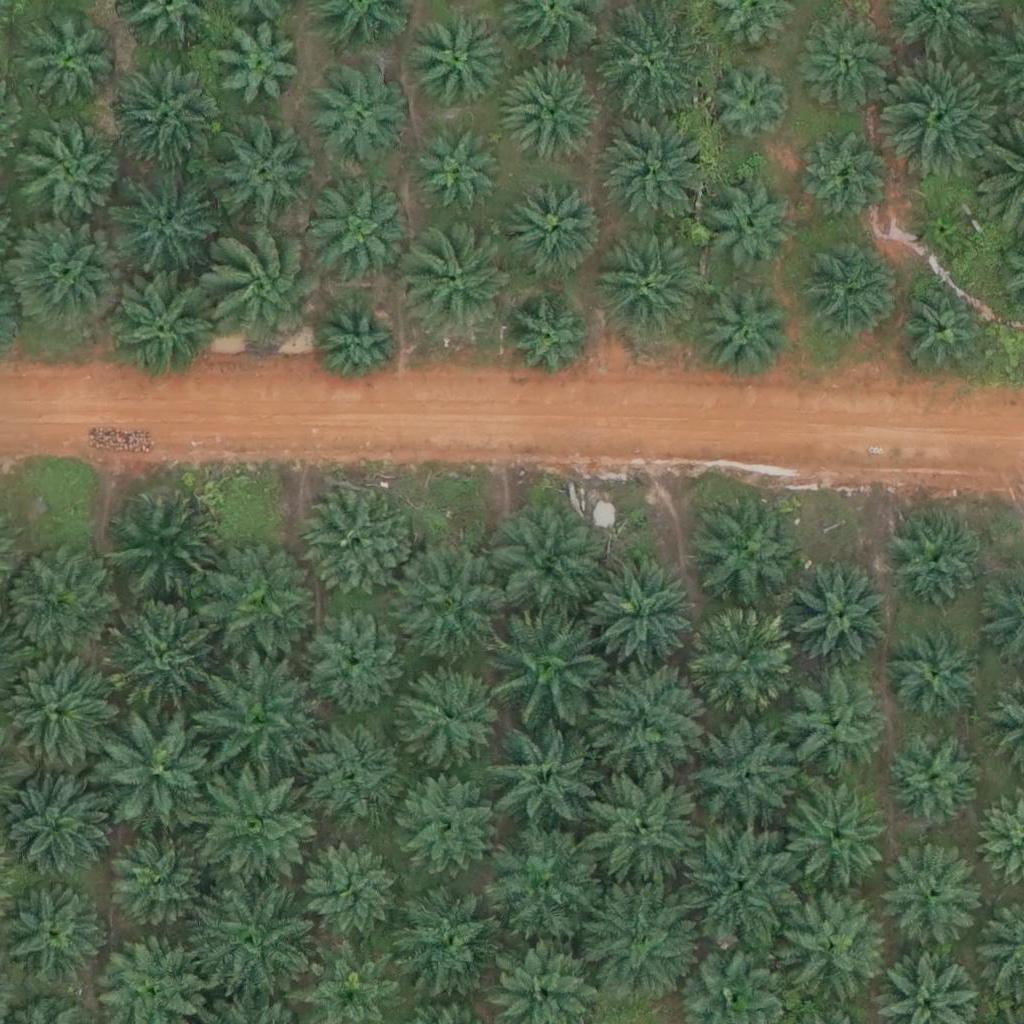Kelapa_Sawit: (204, 228, 329, 354), (690, 493, 803, 607), (588, 557, 701, 671), (588, 766, 701, 880), (487, 826, 600, 940), (204, 767, 317, 881), (101, 711, 214, 825), (773, 884, 886, 997), (682, 821, 795, 934), (686, 607, 799, 720), (584, 671, 697, 784), (581, 885, 694, 998), (494, 608, 607, 721), (392, 882, 505, 995), (301, 489, 414, 602), (199, 550, 312, 663), (2, 546, 115, 659), (3, 650, 116, 763), (108, 65, 221, 178), (108, 166, 221, 279), (104, 273, 217, 386), (775, 673, 887, 787), (689, 717, 801, 831), (398, 546, 510, 660), (590, 229, 702, 343), (488, 721, 600, 834), (492, 509, 604, 622), (292, 717, 404, 830), (202, 665, 314, 778), (198, 885, 310, 998), (111, 486, 223, 599), (104, 597, 216, 710), (884, 62, 996, 175), (593, 7, 705, 120), (601, 119, 713, 232), (405, 225, 517, 338), (204, 117, 316, 230), (13, 221, 125, 334), (885, 511, 985, 612), (788, 569, 888, 670), (786, 789, 886, 890), (400, 662, 500, 763), (297, 835, 397, 936), (302, 603, 402, 704), (801, 242, 901, 343), (695, 286, 795, 387), (506, 177, 606, 278), (407, 13, 507, 114), (308, 62, 408, 163), (18, 123, 118, 224), (886, 846, 986, 946), (883, 730, 983, 830), (886, 625, 986, 725), (399, 773, 499, 873), (106, 831, 206, 931), (505, 60, 605, 160), (313, 185, 413, 285), (802, 17, 890, 105), (707, 62, 795, 150), (507, 300, 595, 388), (899, 283, 986, 372), (419, 128, 506, 217), (800, 133, 887, 221), (707, 179, 794, 267), (314, 300, 401, 388), (215, 24, 302, 112), (26, 19, 113, 107), (915, 201, 978, 264)
